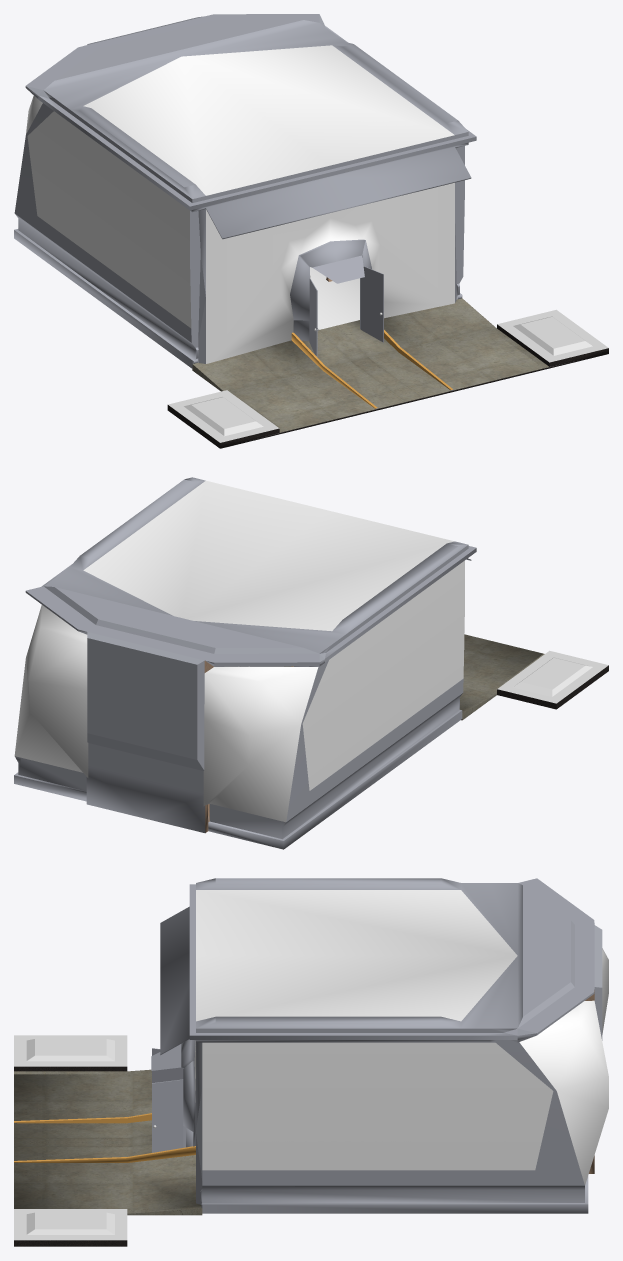
File: Puesto_JYPColor.fbx
3 views of the same model, one above another, from view 1: azimuth 30°, elevation 25°; view 2: azimuth 150°, elevation 25°; view 3: azimuth 270°, elevation 25° (orthographic). The views are drawn at different scales.
Parts seen in each view (by area): view 1: Tienda, Cube.010; view 2: Tienda; view 3: Tienda, Cube.010.
Boxes of the visible parts, x1,y1,x2,y2 form: Tienda: [14, 14, 608, 448]; Cube.010: [309, 266, 383, 357]; Tienda: [14, 477, 608, 849]; Tienda: [14, 878, 608, 1246]; Cube.010: [152, 1048, 183, 1152].
Size of the model in its own units: 1379 by 608 by 1691.
